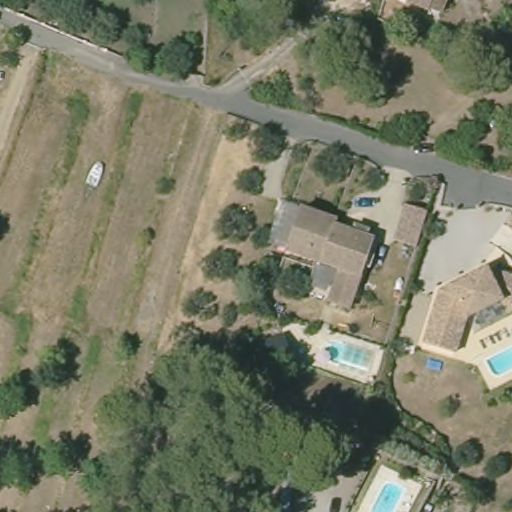pool: (318, 332, 378, 377), (364, 477, 412, 510), (478, 338, 512, 379)
